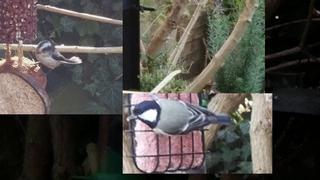great tit: (126, 98, 232, 136)
long tailed tit: (31, 40, 83, 76)
